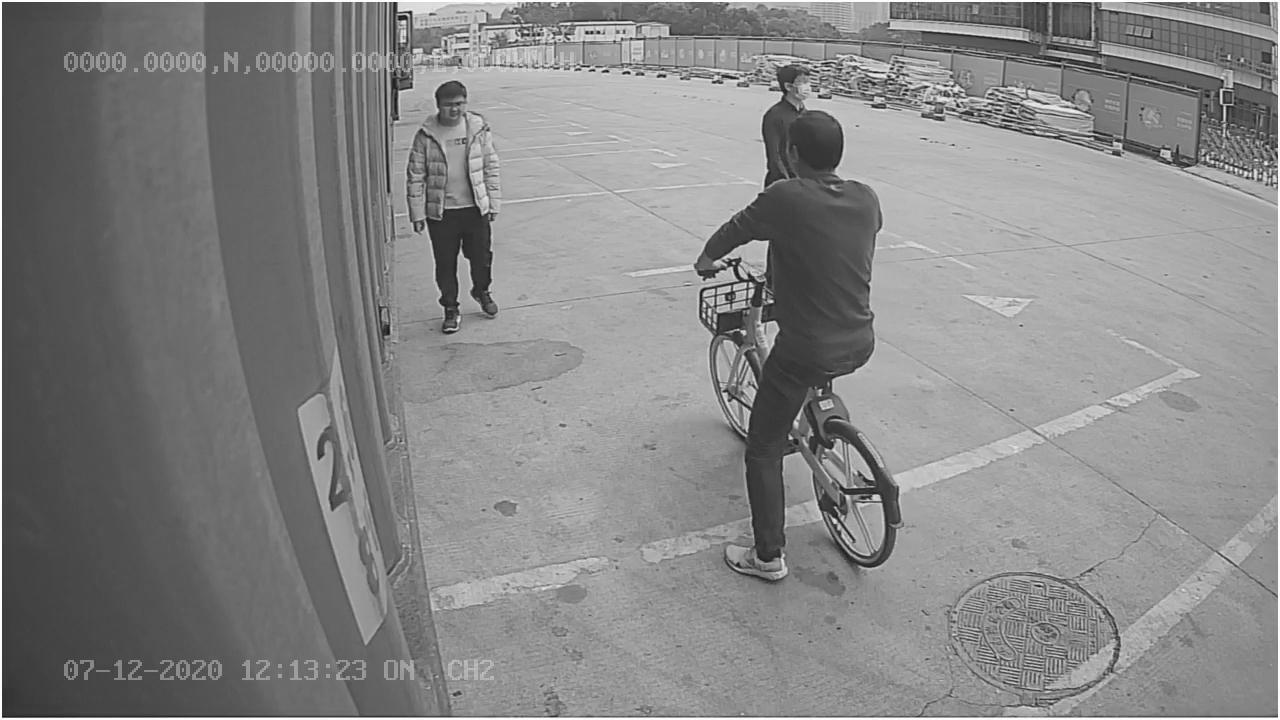person: (405, 74, 503, 336)
